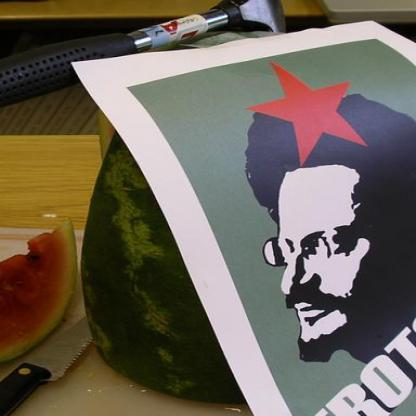knife: (0, 316, 101, 415)
